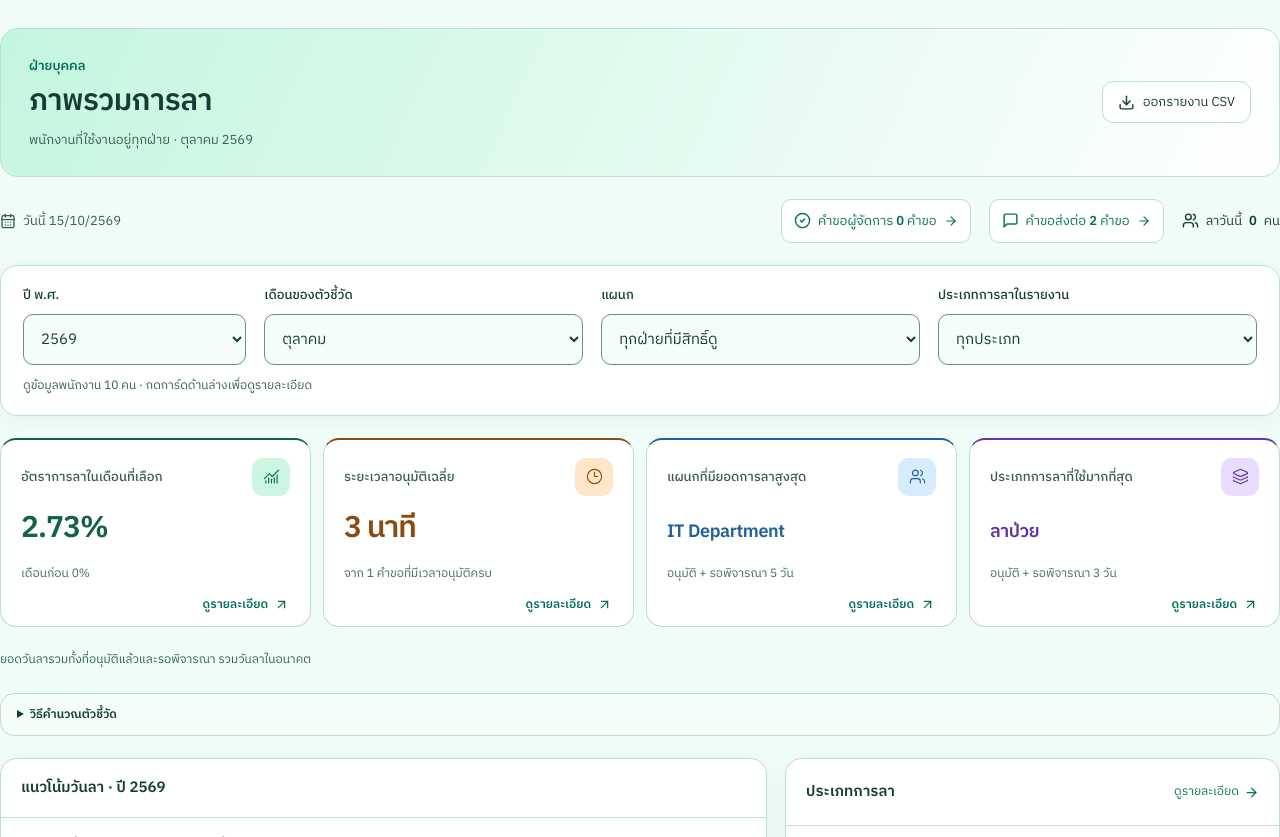
Scenario: approval detail shows real decision times and links; Escape closes it without changing source data
Select "IT Department" in the dropdown labelled "แผนก" at (761,340), box [601, 314, 920, 365]
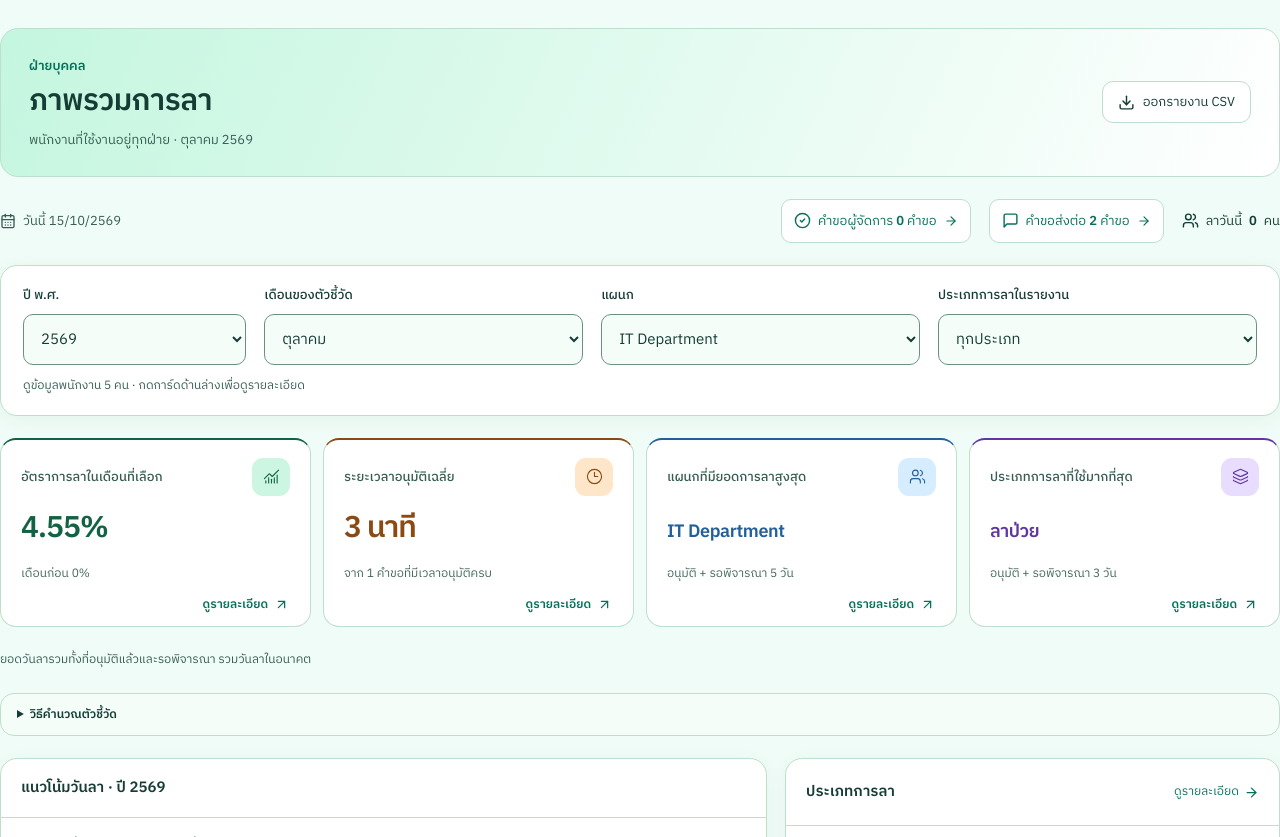
Select "ลากิจ" in the dropdown labelled "ประเภทการลาในรายงาน" at (1098,340), box [938, 314, 1257, 365]
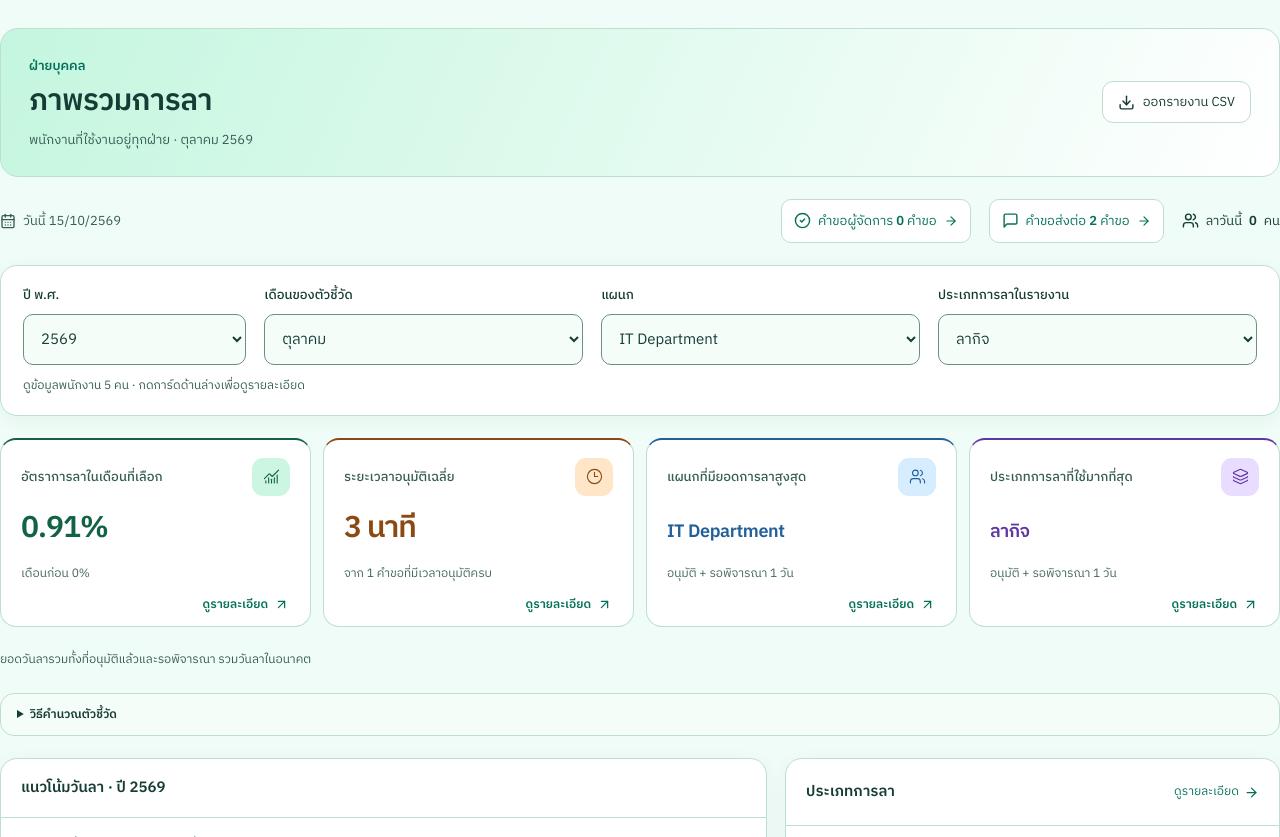
Click the button with aria-label "ดูรายละเอียดระยะเวลาอนุมัติเฉลี่ย" at (478,532), box [323, 438, 634, 627]
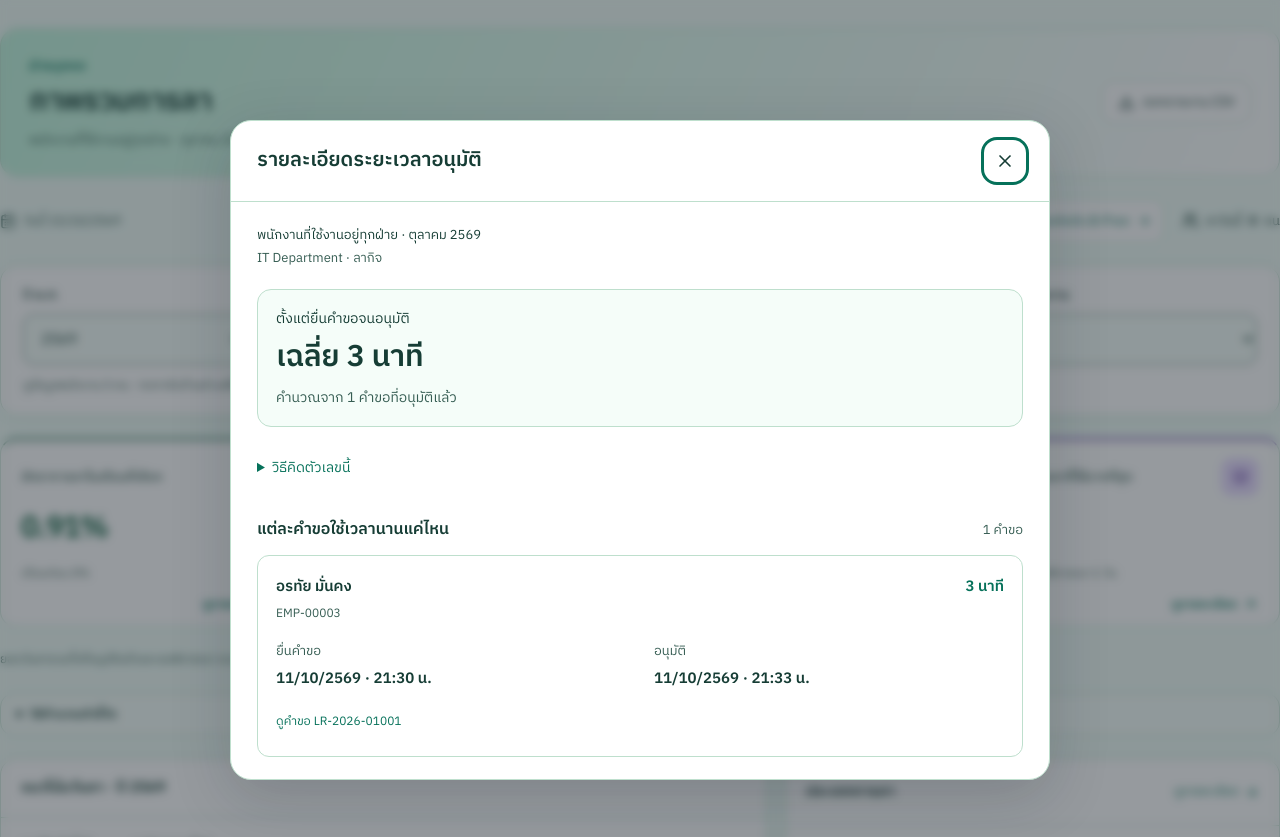
Now the text "11/10/2569 · 21:30 น." is shown, box [276, 666, 432, 691]
Now the text "11/10/2569 · 21:33 น." is shown, box [654, 666, 810, 691]
Press Escape in the dialog, box [230, 120, 1050, 780]
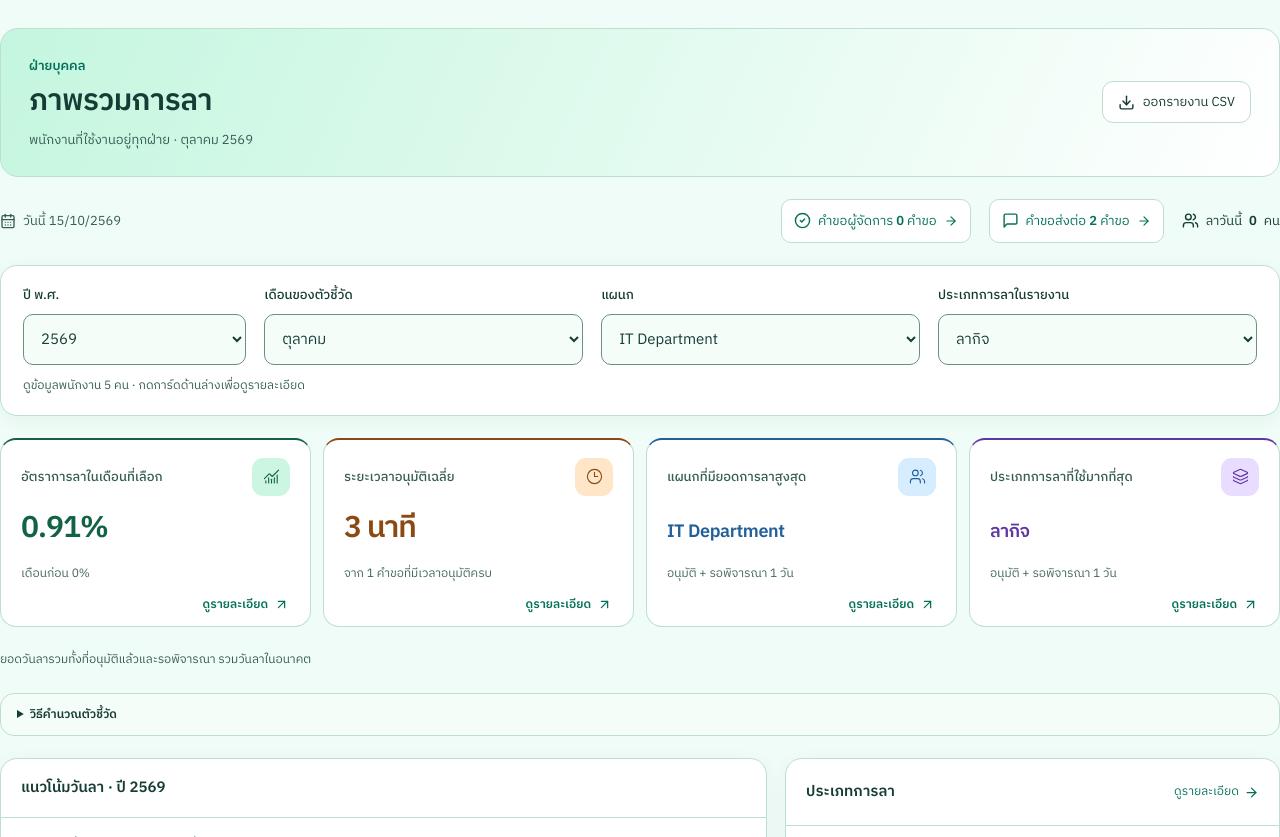
Now the dialog is gone
